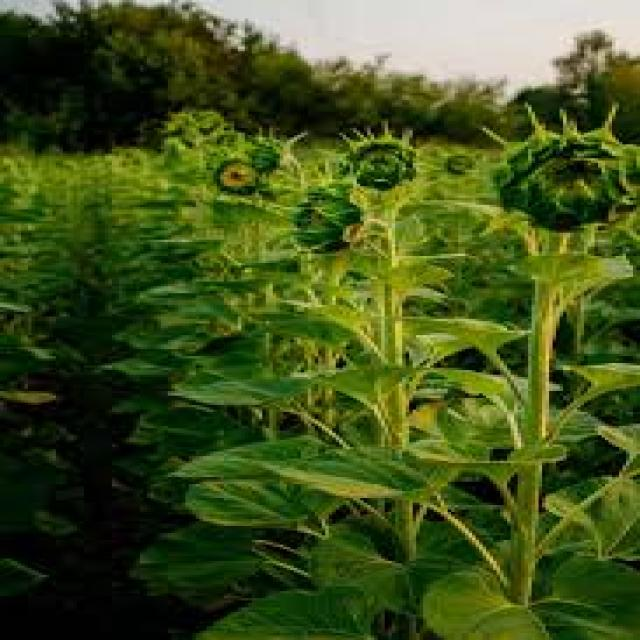Unbloomed: (458, 89, 640, 294), (326, 119, 438, 227)
